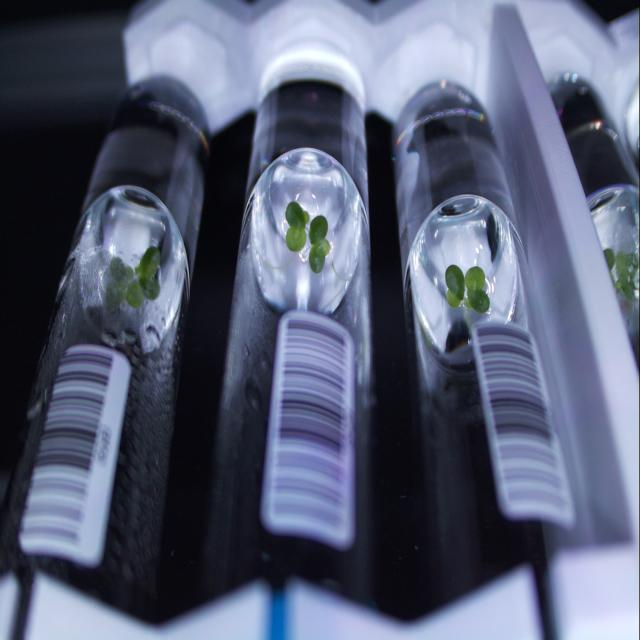Lemna-Gibba: (445, 265, 490, 314), (106, 257, 145, 309), (135, 247, 160, 300), (309, 215, 330, 274), (285, 202, 309, 252)
